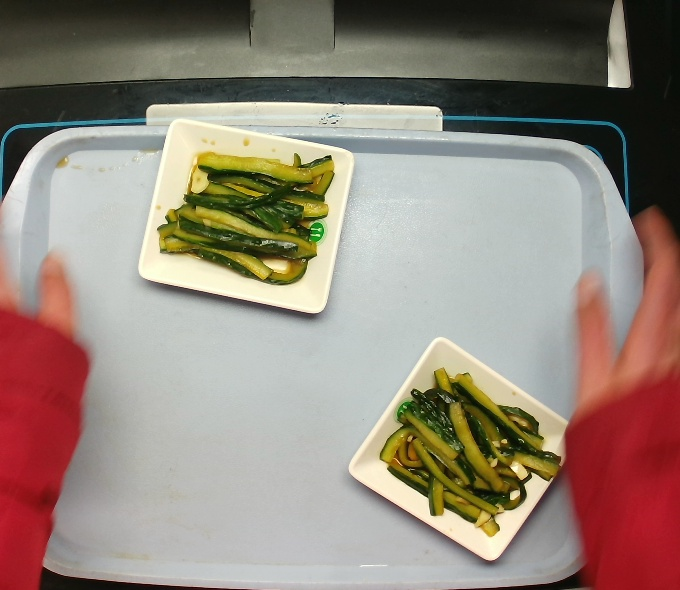wcq-LiangBanHuangGua: (382, 362, 563, 533), (153, 143, 338, 297)
